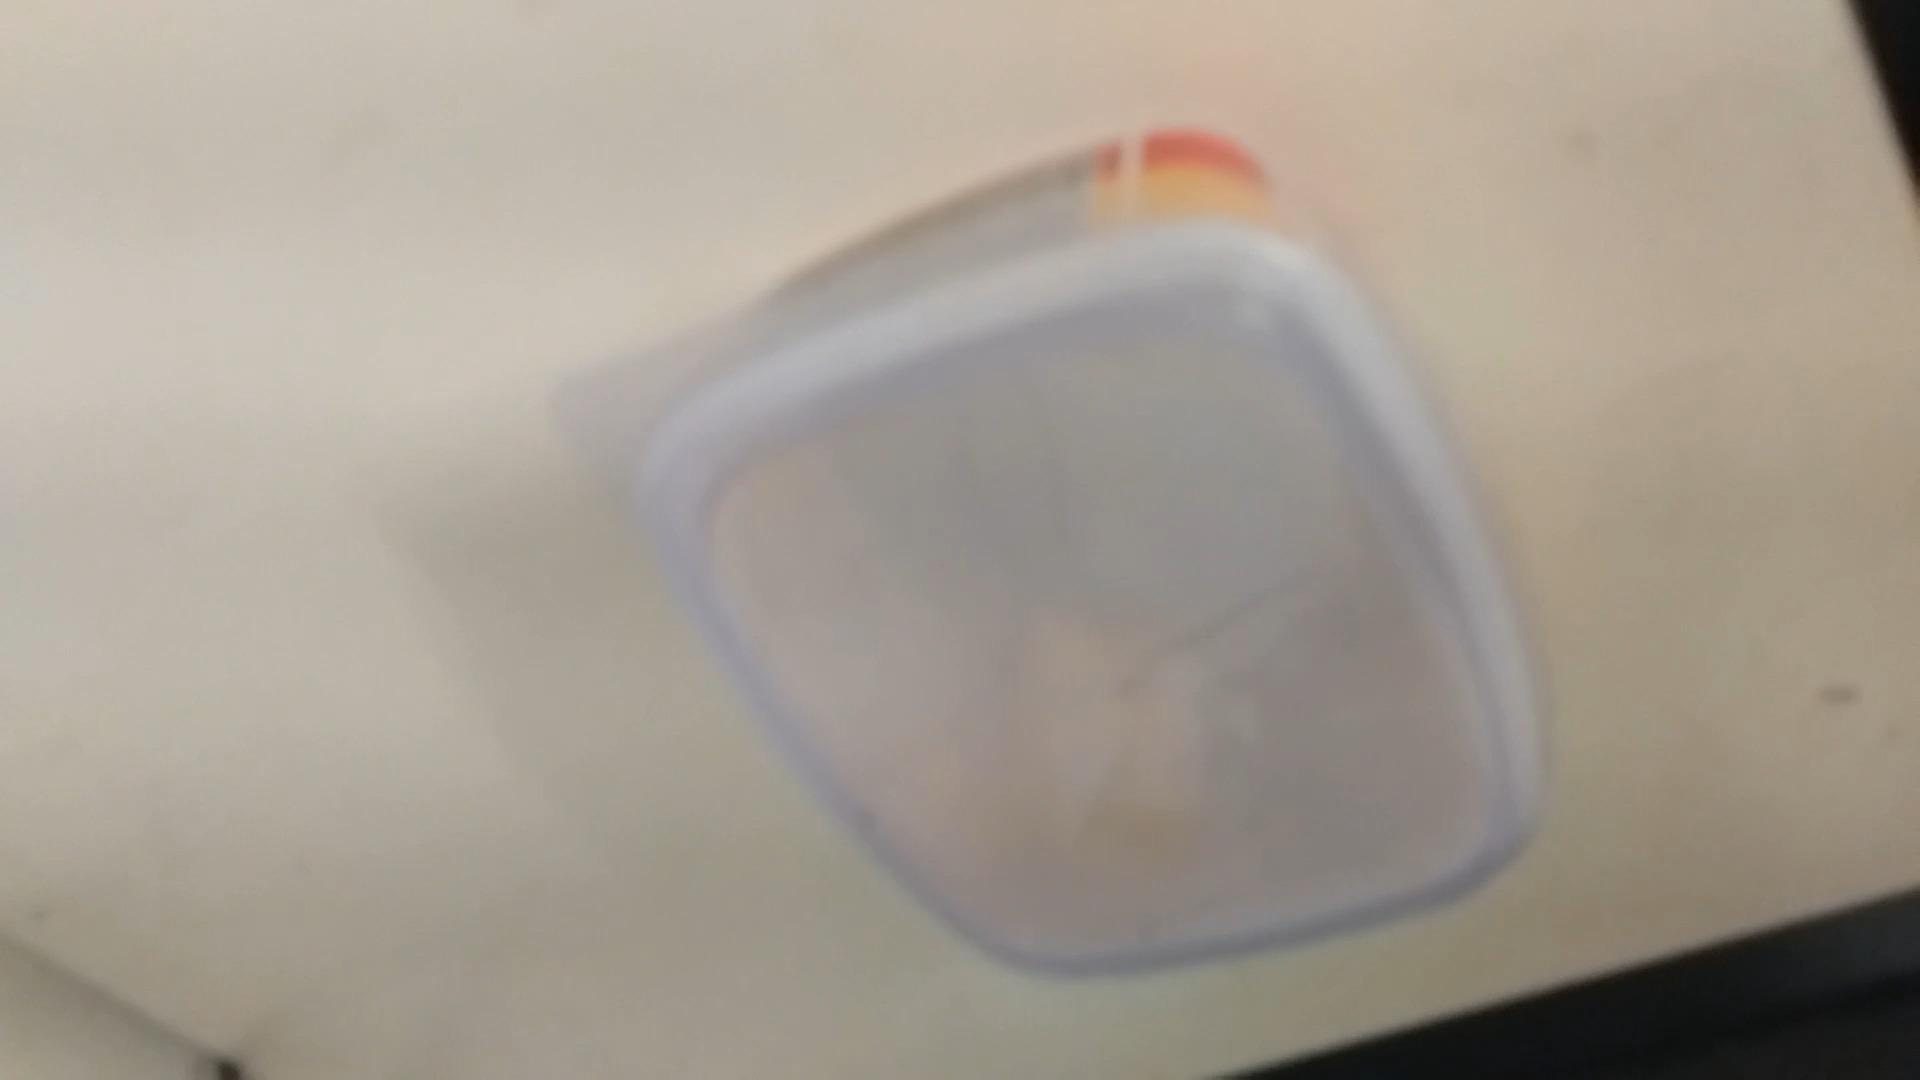butter: (593, 146, 1553, 993)
